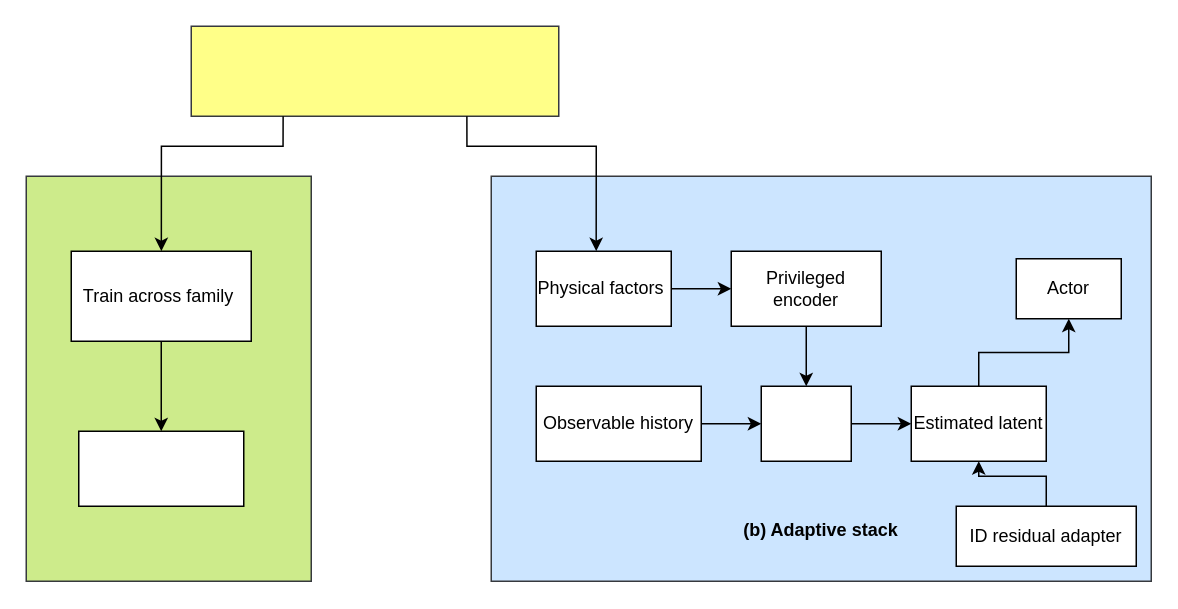
Image size: 1178x609. Some labels were removed from this diagram. The shapes that lost their labels are listed below. From the top down, each one's box as (x1, y1, x2, y2) in pixels, then its label:
(190, 25, 559, 116): Randomized hydraulic plants
(25, 175, 311, 581): (a) Robust same response online
(760, 385, 851, 461): AAM
(77, 430, 244, 506): Fixed model
